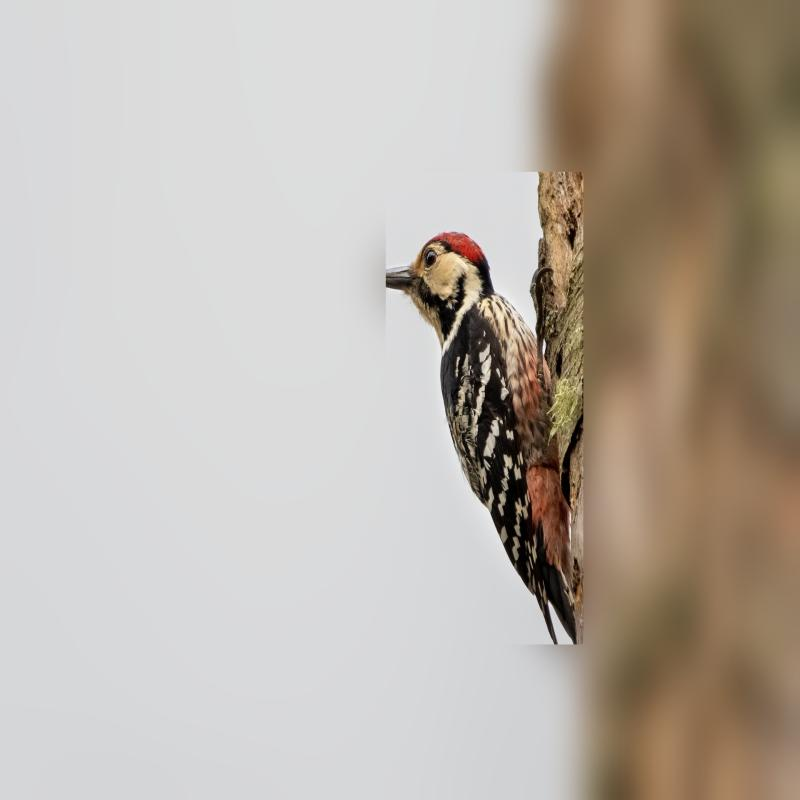white-backed woodpecker: (379, 220, 580, 639)
